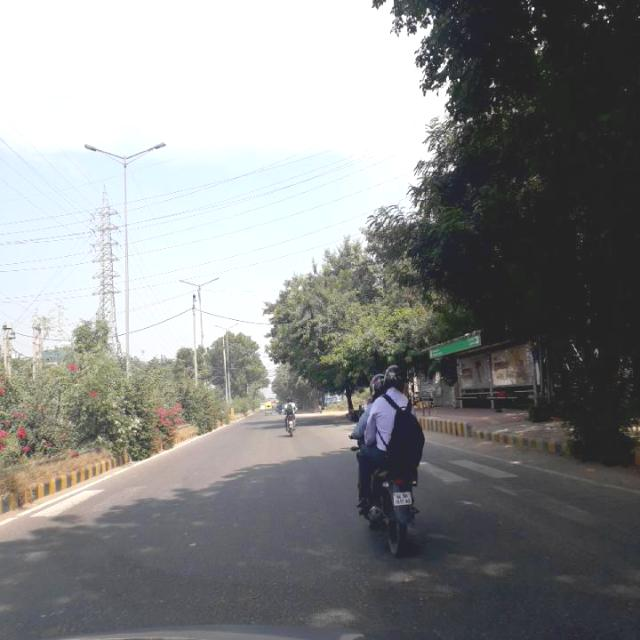D43: (47, 460, 341, 536)
